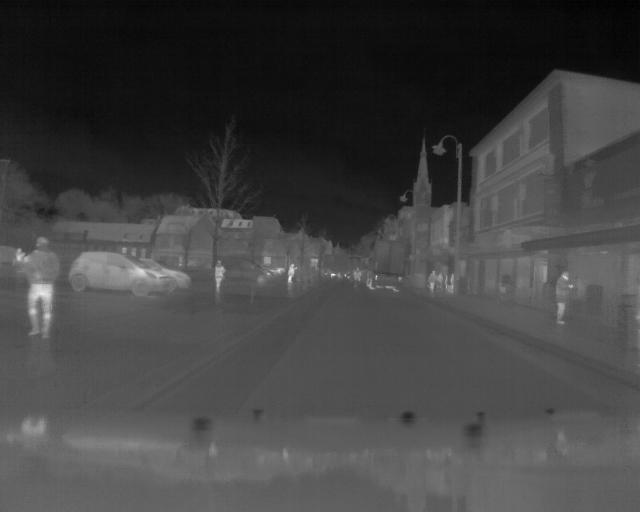car: (69, 250, 179, 300)
person: (25, 235, 59, 340), (554, 269, 574, 328), (213, 258, 226, 296), (286, 262, 298, 284)
